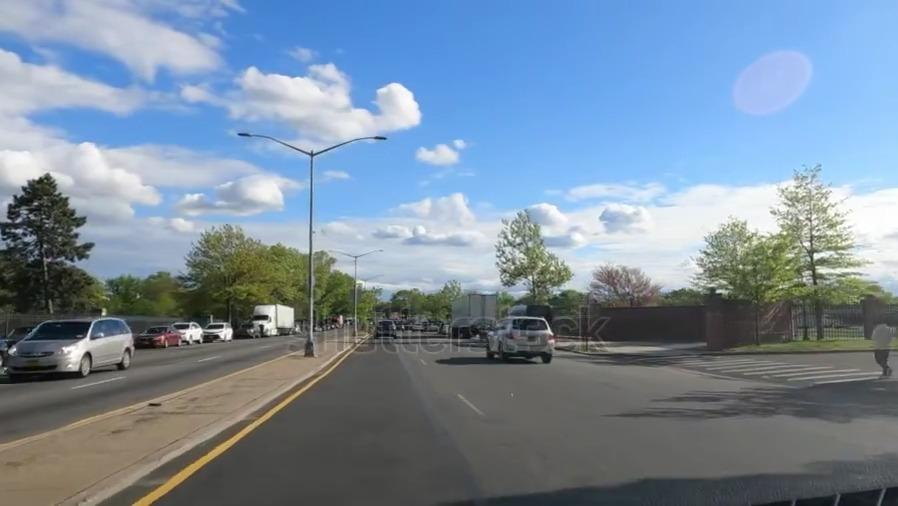car: (4, 319, 135, 373), (484, 315, 557, 364), (139, 324, 182, 348), (176, 318, 204, 345), (204, 316, 231, 342), (3, 322, 28, 344), (372, 320, 397, 339), (236, 322, 258, 339)
pedestrian: (638, 351, 898, 388)
person: (869, 316, 894, 381)
truck: (253, 303, 295, 335)
